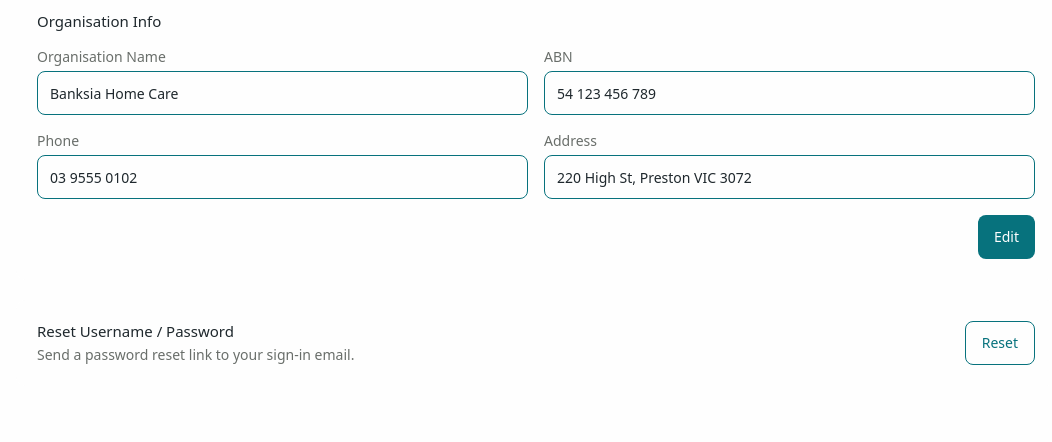
Scenario: Admin Settings › [ADM-UI-05][AC-01] saves changes without mutating the props it was given
The width and height of the screenshot is (1052, 442).
Click the button "Edit".
click(1006, 237)  # box [978,215,1035,259]
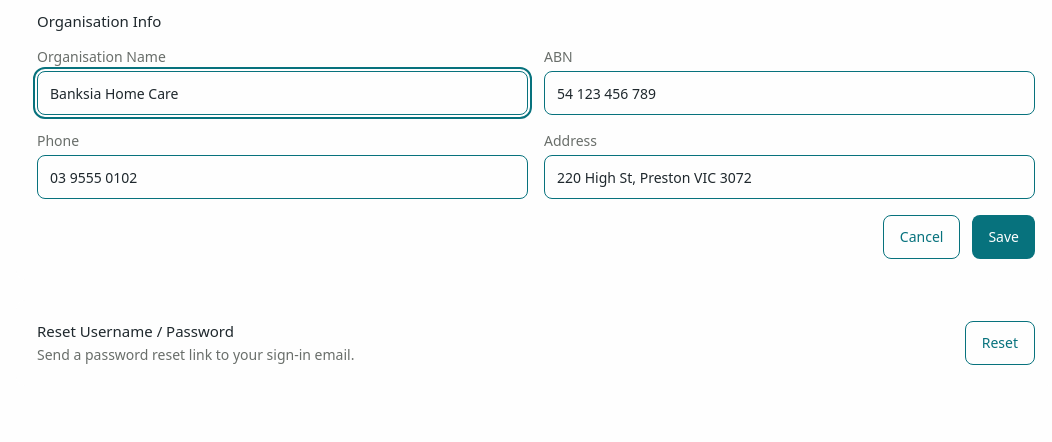
Replace the text in the field labelled "Organisation Name" with "Banksia Care" at (282, 93), box [37,71,528,115]
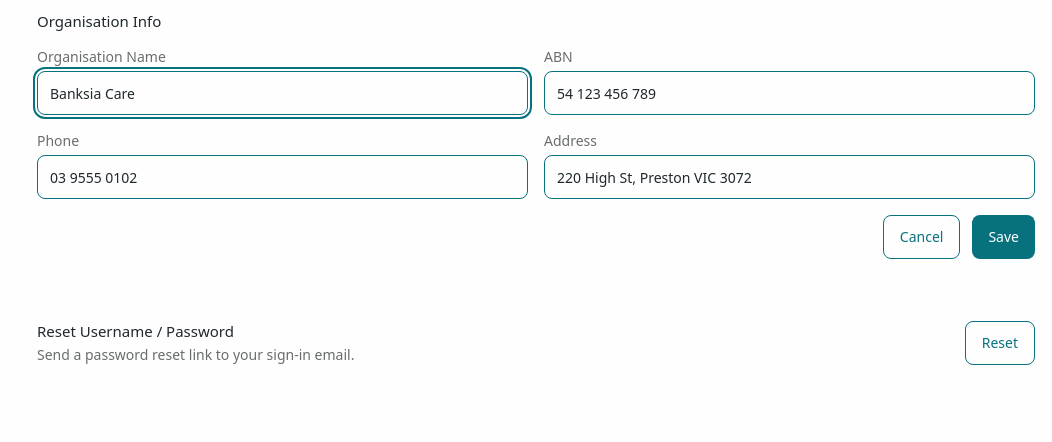
Click the button "Save".
click(1004, 237)  # box [972,215,1035,259]
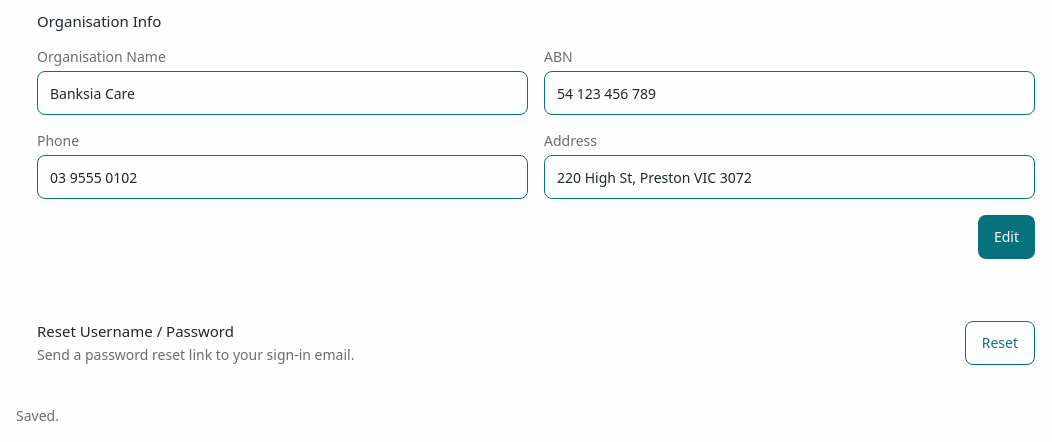
Expected: the text "Saved." is shown, [16,406,59,425]
